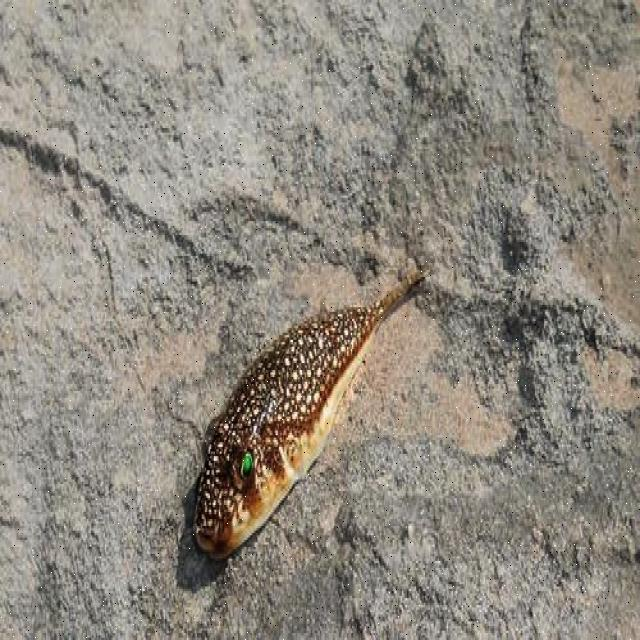Balik: (195, 273, 424, 558)
